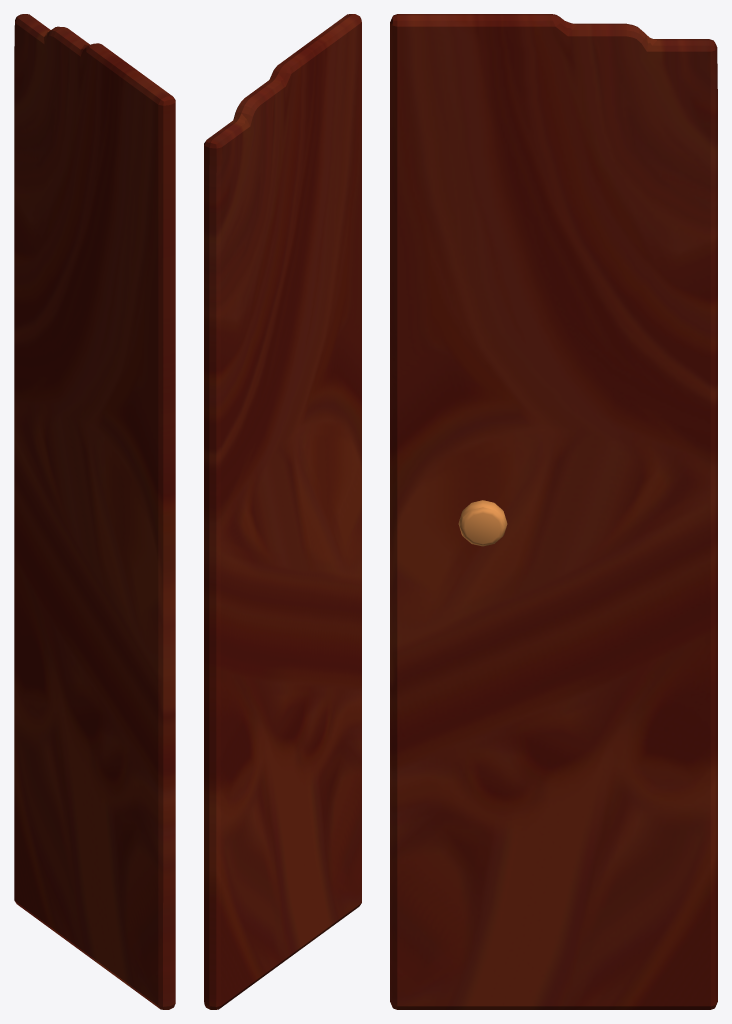
The model's file is porta_armario4.glb.
3 views of the same model, side by side, from view 1: azimuth 30°, elevation 25°; view 2: azimuth 150°, elevation 25°; view 3: azimuth 270°, elevation 25° (orthographic). The views are drawn at different scales.
Visible parts, largest first — view 1: porta.001; view 2: porta.001; view 3: porta.001, maçaneta.002.
Part boxes in pixels (bbox=[...]): porta.001: bbox=[14, 14, 175, 1009]; porta.001: bbox=[204, 14, 361, 1009]; porta.001: bbox=[390, 14, 717, 1009]; maçaneta.002: bbox=[458, 500, 507, 546].
Bounding box in the file's own units: 0.1038 × 2 × 0.5978.
Materials: 2 (1 with a texture image).
